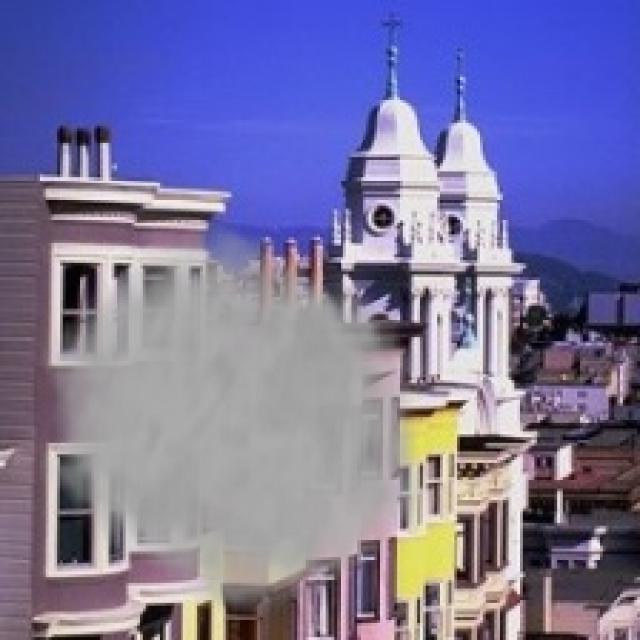smoke: (40, 211, 443, 626)
